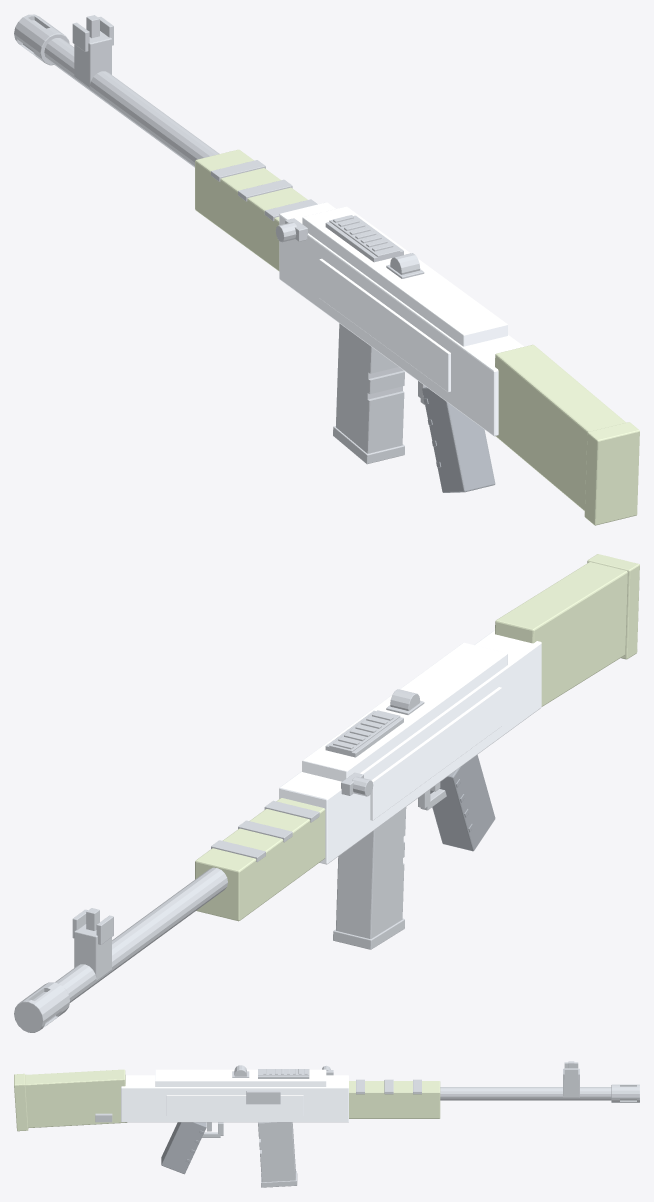
The picture shows the model from 3 angles, top to bottom: view 1: azimuth 30°, elevation 25°; view 2: azimuth 150°, elevation 25°; view 3: azimuth 270°, elevation 25°; orthographic projection. The views are drawn at different scales.
Parts seen in each view (by area): view 1: StockBody, Receiver, mag, SightBase, Handguard, RecvRibL, StockPlate, Grip, Barrel, TopRail, FrontSightBase, FlashHider (+1 smaller); view 2: Receiver, StockBody, Handguard, mag, SightBase, RecvRibL, Barrel, Grip, TopRail, StockPlate, FlashHider, FrontSightBase (+1 smaller); view 3: Receiver, StockBody, Handguard, RecvRibR, SightBase, mag, Barrel, Grip, StockPlate, FlashHider, EjectionPort, TopRail (+2 smaller).
Part boxes in pixels (left/top/right/bottom): StockBody: left=495, top=344, right=625, bottom=510; Receiver: left=279, top=202, right=524, bottom=436; mag: left=333, top=323, right=404, bottom=464; SightBase: left=302, top=206, right=507, bottom=346; Handguard: left=195, top=149, right=307, bottom=271; RecvRibL: left=319, top=258, right=450, bottom=392; StockPlate: left=584, top=422, right=639, bottom=525; Grip: left=422, top=387, right=495, bottom=492; Barrel: left=32, top=20, right=219, bottom=167; TopRail: left=325, top=215, right=403, bottom=262; FrontSightBase: left=74, top=31, right=111, bottom=87; FlashHider: left=14, top=14, right=69, bottom=65; Receiver: left=279, top=630, right=541, bottom=864; StockBody: left=495, top=562, right=627, bottom=706; Handguard: left=195, top=798, right=325, bottom=921; mag: left=333, top=807, right=406, bottom=949; SightBase: left=302, top=642, right=507, bottom=781; RecvRibL: left=370, top=687, right=501, bottom=820; Barrel: left=18, top=867, right=227, bottom=1028; Grip: left=430, top=755, right=495, bottom=851; TopRail: left=325, top=710, right=403, bottom=757; StockPlate: left=587, top=554, right=639, bottom=659; FlashHider: left=14, top=982, right=69, bottom=1032; FrontSightBase: left=74, top=924, right=111, bottom=980; Receiver: left=121, top=1075, right=348, bottom=1122; StockBody: left=25, top=1069, right=127, bottom=1128; Handguard: left=349, top=1081, right=440, bottom=1118; RecvRibR: left=166, top=1095, right=303, bottom=1115; SightBase: left=155, top=1069, right=326, bottom=1086; mag: left=258, top=1122, right=297, bottom=1187; Barrel: left=440, top=1087, right=636, bottom=1100; Grip: left=161, top=1122, right=206, bottom=1174; StockPlate: left=14, top=1073, right=28, bottom=1131; FlashHider: left=611, top=1084, right=639, bottom=1102; EjectionPort: left=246, top=1090, right=280, bottom=1104; TopRail: left=258, top=1069, right=309, bottom=1078.
Size of the model in its own units: 0.08 by 0.2336 by 1.1.
